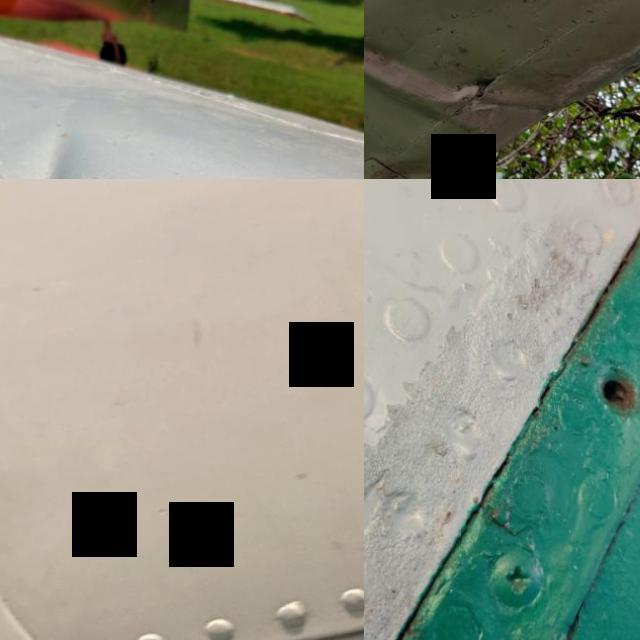Crack: (443, 70, 483, 92)
Dent: (364, 0, 461, 129), (494, 28, 640, 113), (0, 110, 137, 179), (364, 136, 465, 179)
Missing_Fastener: (573, 348, 640, 433)
